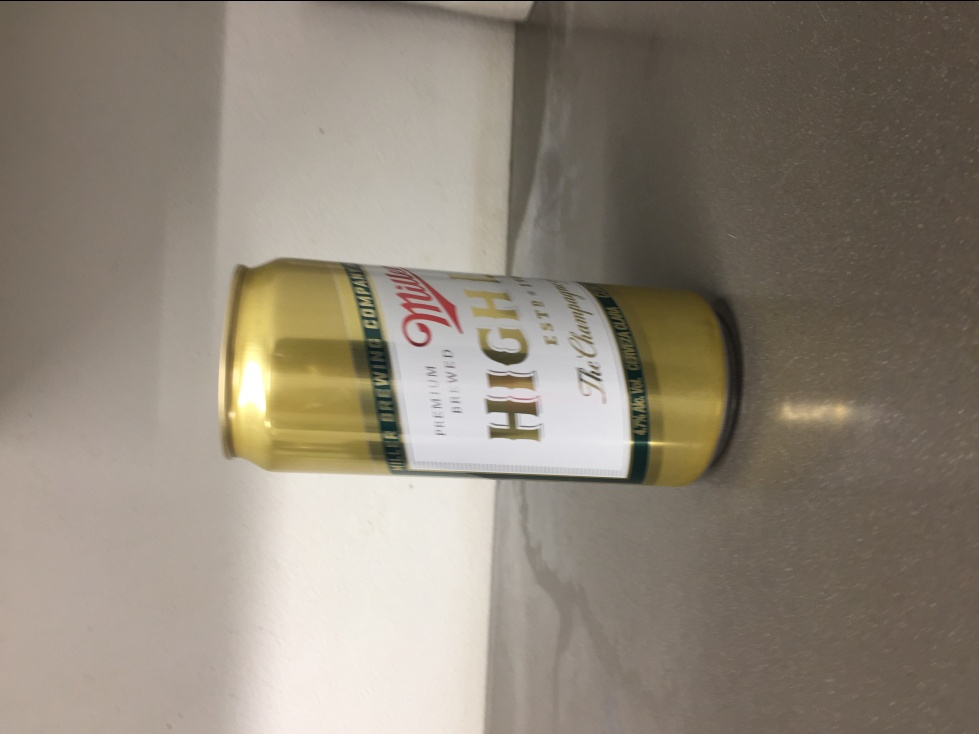miller: (212, 253, 742, 490)
